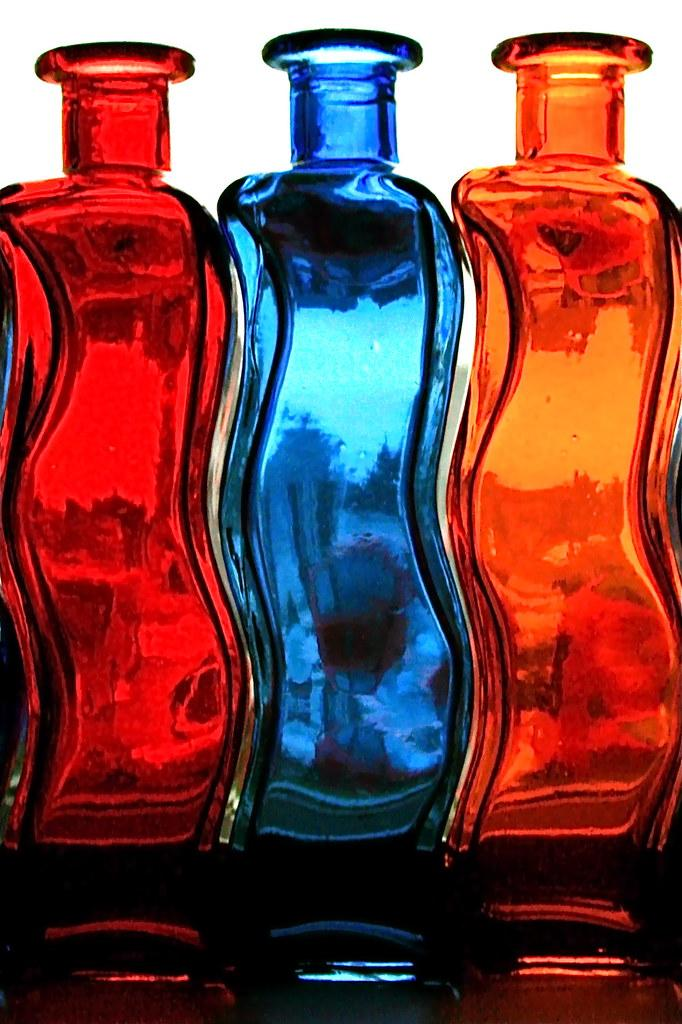bottle: (214, 26, 467, 984), (1, 41, 249, 984), (440, 30, 682, 985)
